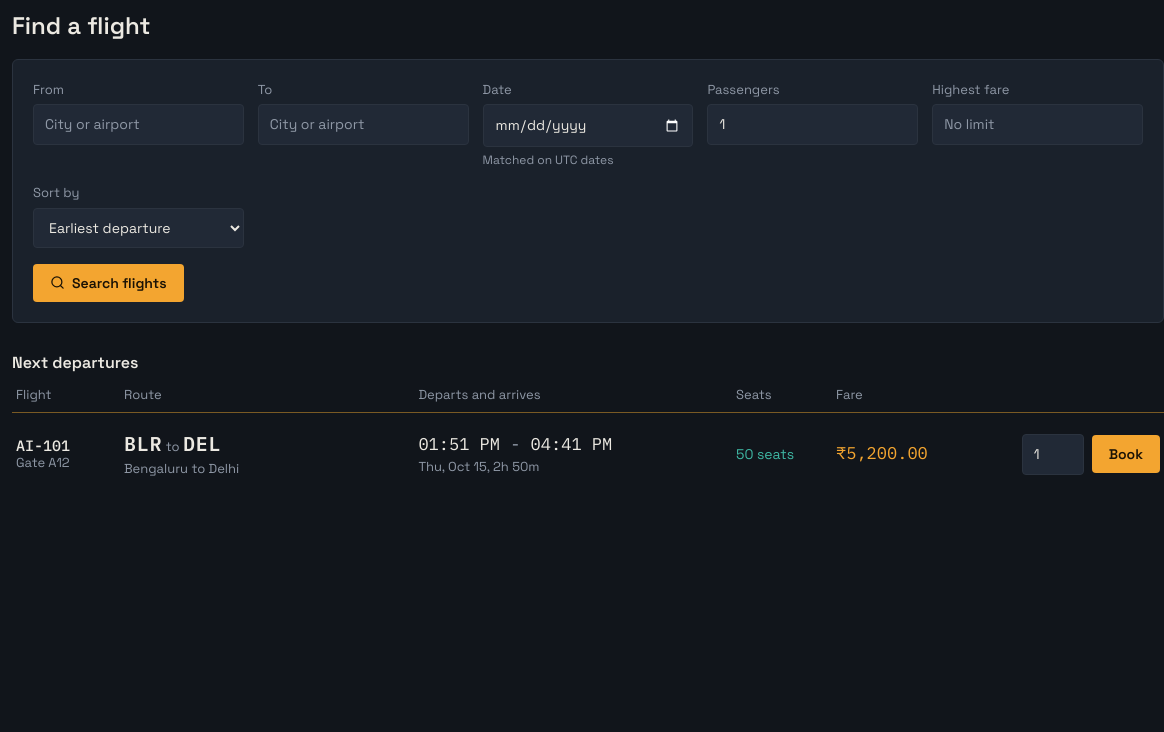
SearchPage › booking › shows the reason when there are not enough seats
The image size is (1164, 732).
Expected: the text "AI-101" is shown, [16,436,70,455]
Click the button "Book" at (1126, 454), box [1092,435,1160,473]
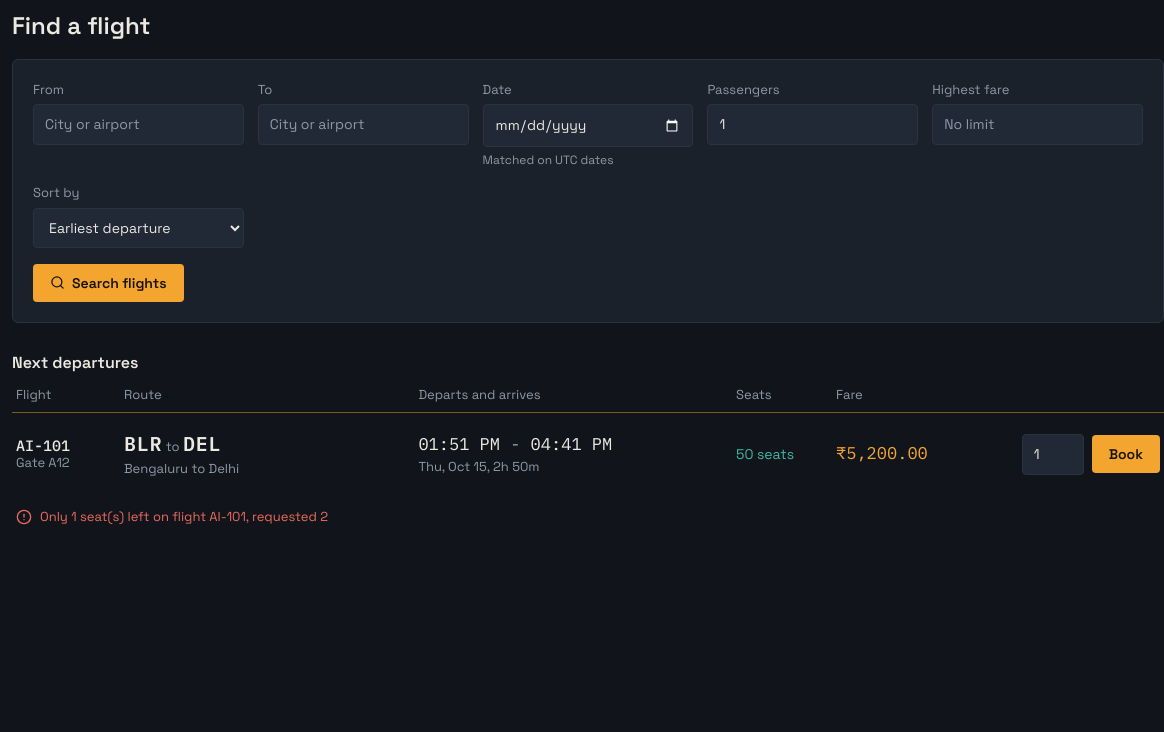
Expected: the message reads "Only 1 seat(s) left on flight AI-101, requested 2", [40,508,328,525]
